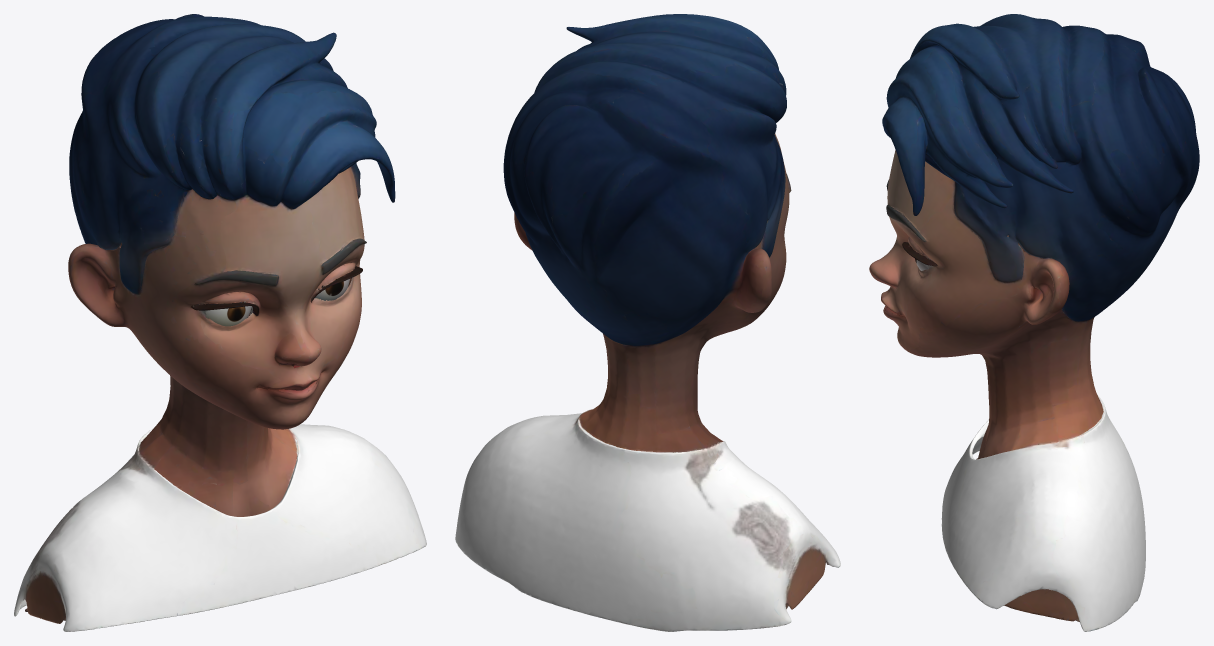
The model's file is sample_00250.glb.
3 views of the same model, side by side, from view 1: azimuth 30°, elevation 25°; view 2: azimuth 150°, elevation 25°; view 3: azimuth 270°, elevation 25° (orthographic). The views are drawn at different scales.
Parts seen in each view (by area): view 1: TopoRig_CoordinateSystem, EyeAU_CompleteBall_right; view 2: TopoRig_CoordinateSystem; view 3: TopoRig_CoordinateSystem.
Boxes of the visible parts, x1,y1,x2,y2 form: TopoRig_CoordinateSystem: [14, 14, 426, 631]; EyeAU_CompleteBall_right: [205, 301, 251, 326]; TopoRig_CoordinateSystem: [455, 14, 840, 631]; TopoRig_CoordinateSystem: [869, 14, 1199, 631].
Bounding box in the file's own units: 1.71 × 2.59 × 1.46.
Materials: 3 (3 with a texture image).
